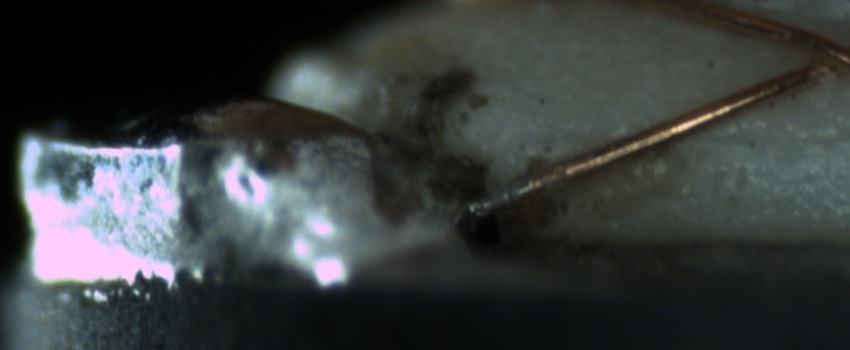CL: (790, 27, 850, 87)
DL: (674, 107, 849, 170)
TS: (466, 174, 536, 220)
